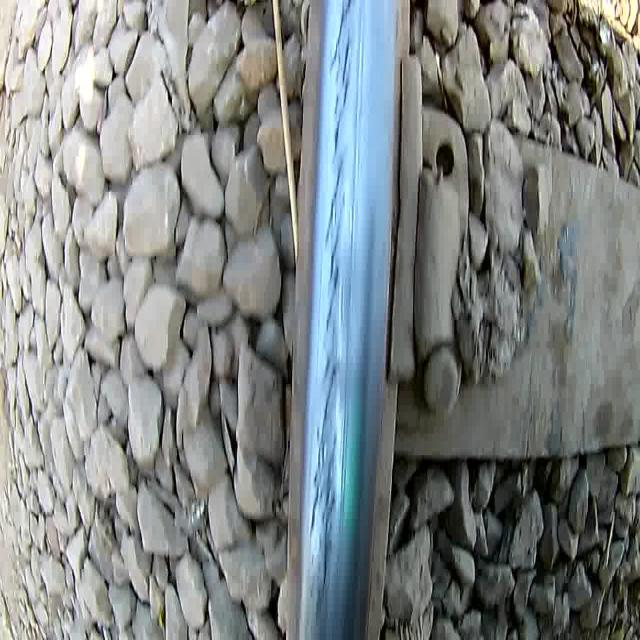Cracks: (307, 0, 357, 619)
Grooves: (334, 0, 371, 569)
